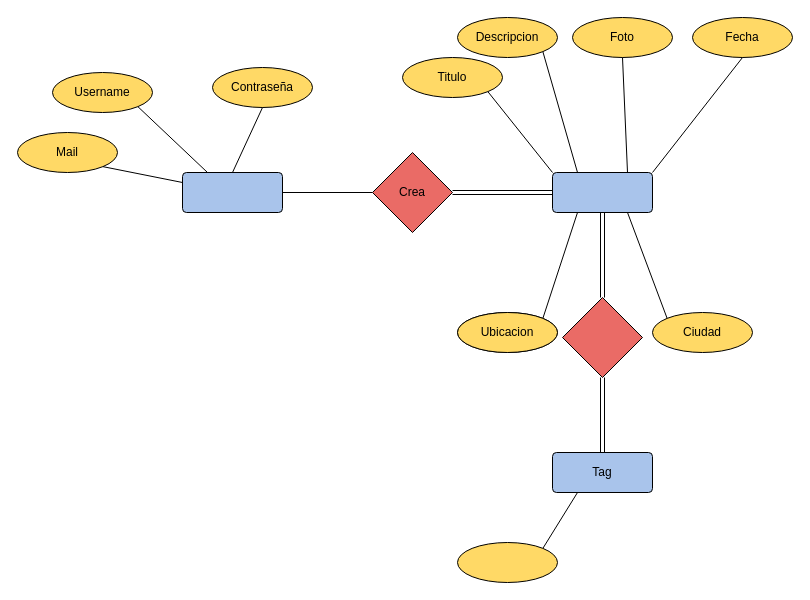
The diagram is 810 pixels wide and 600 high, and some of its shapes have lost their labels. Here are the shapes that lost their labels. From the top down, the box of each, then its label:
(182, 172, 282, 212): Usuario
(552, 172, 652, 212): Reporte
(562, 296, 642, 378): Contiene
(456, 542, 558, 582): Nombre
